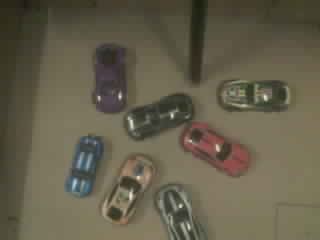Car: (181, 122, 248, 175), (103, 154, 154, 223), (125, 93, 194, 139), (154, 184, 206, 239), (65, 134, 104, 197), (219, 80, 289, 110), (95, 44, 126, 111), (120, 192, 134, 217)
